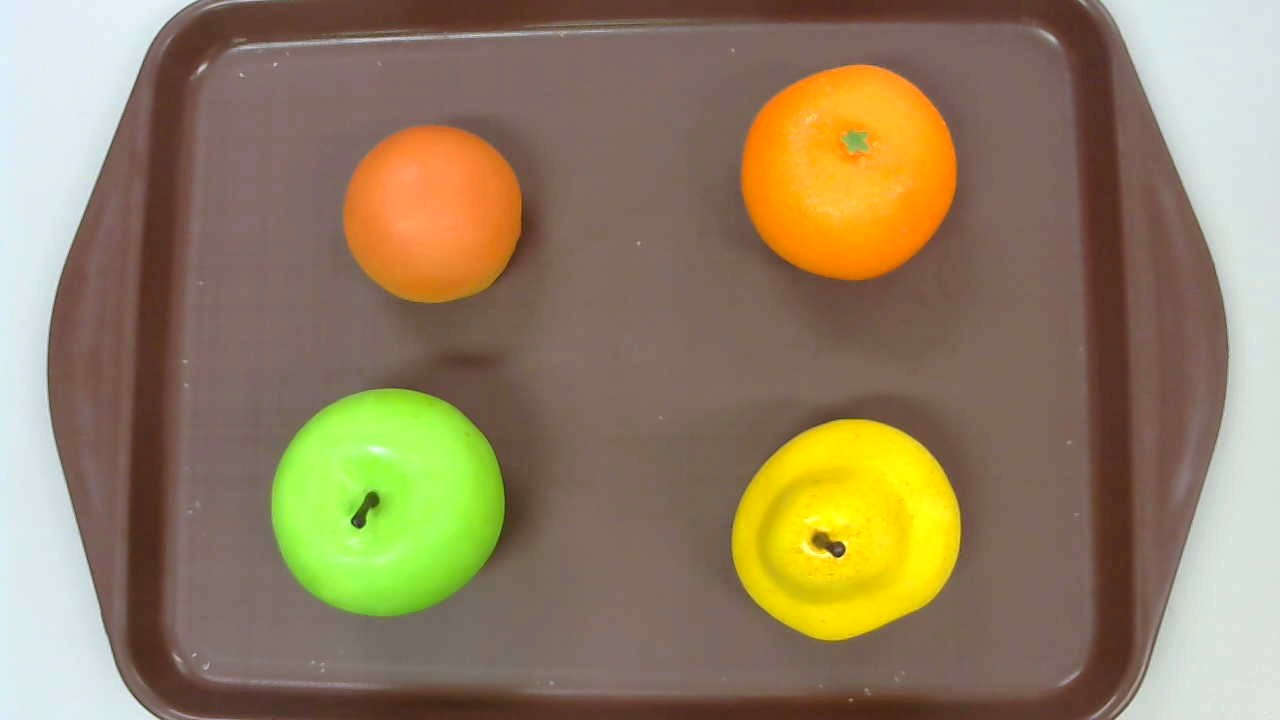bun: (343, 124, 521, 303)
green apple: (270, 388, 506, 617)
orange: (740, 64, 957, 282)
yellow pear: (731, 417, 959, 643)
